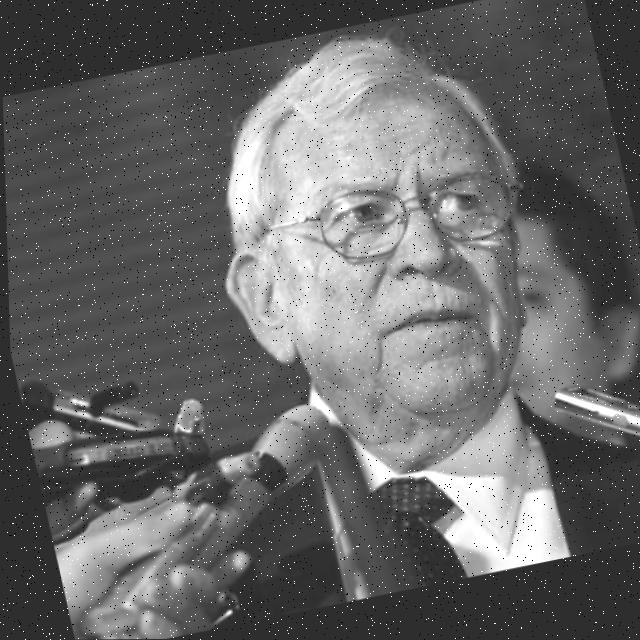face: (241, 79, 563, 452)
